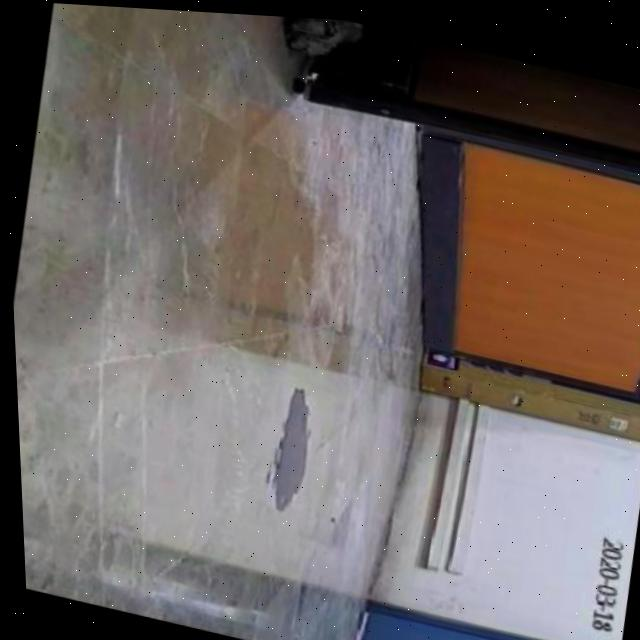spillage: (265, 391, 305, 504)
